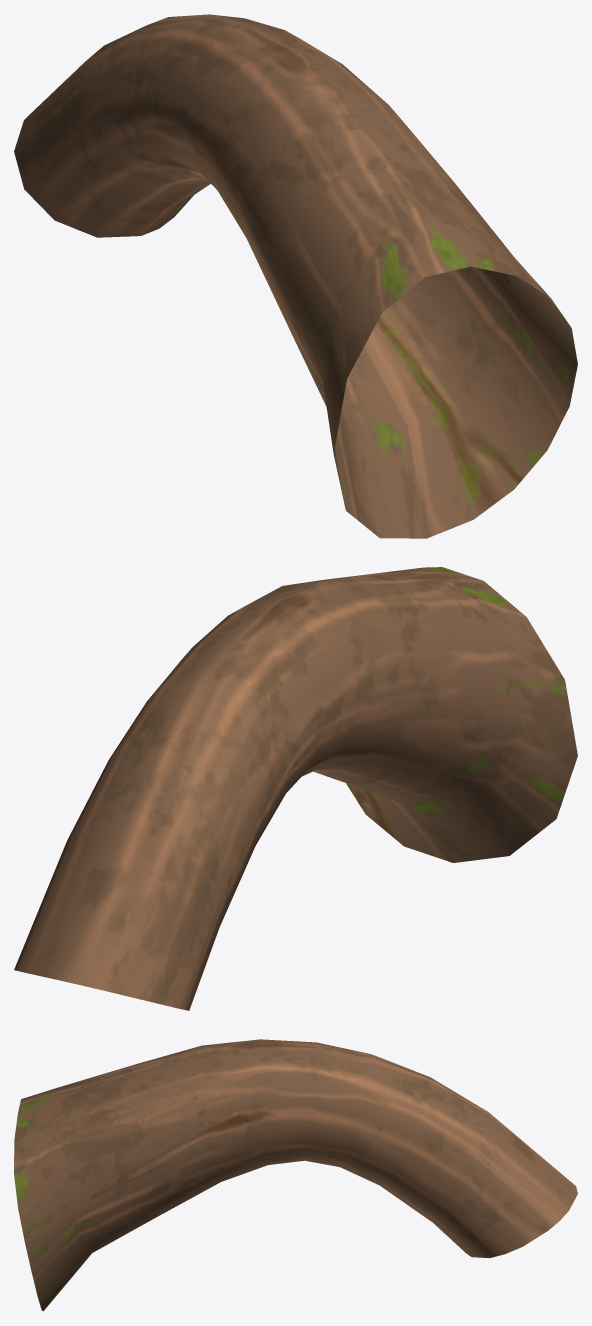
The model's file is Bold_Tree_Bend03.fbx.
3 views of the same model, one above another, from view 1: azimuth 30°, elevation 25°; view 2: azimuth 150°, elevation 25°; view 3: azimuth 270°, elevation 25° (orthographic). The views are drawn at different scales.
Parts seen in each view (by area): view 1: Bold_Tree_Bend03; view 2: Bold_Tree_Bend03; view 3: Bold_Tree_Bend03.
Boxes of the visible parts, box(x1,y1,x2,y2) form: Bold_Tree_Bend03: box(14, 14, 577, 538); Bold_Tree_Bend03: box(14, 567, 577, 1010); Bold_Tree_Bend03: box(14, 1039, 577, 1311).
Bounding box in the file's own units: 1822 × 2584 × 5080.
1 material, 1 textured.
